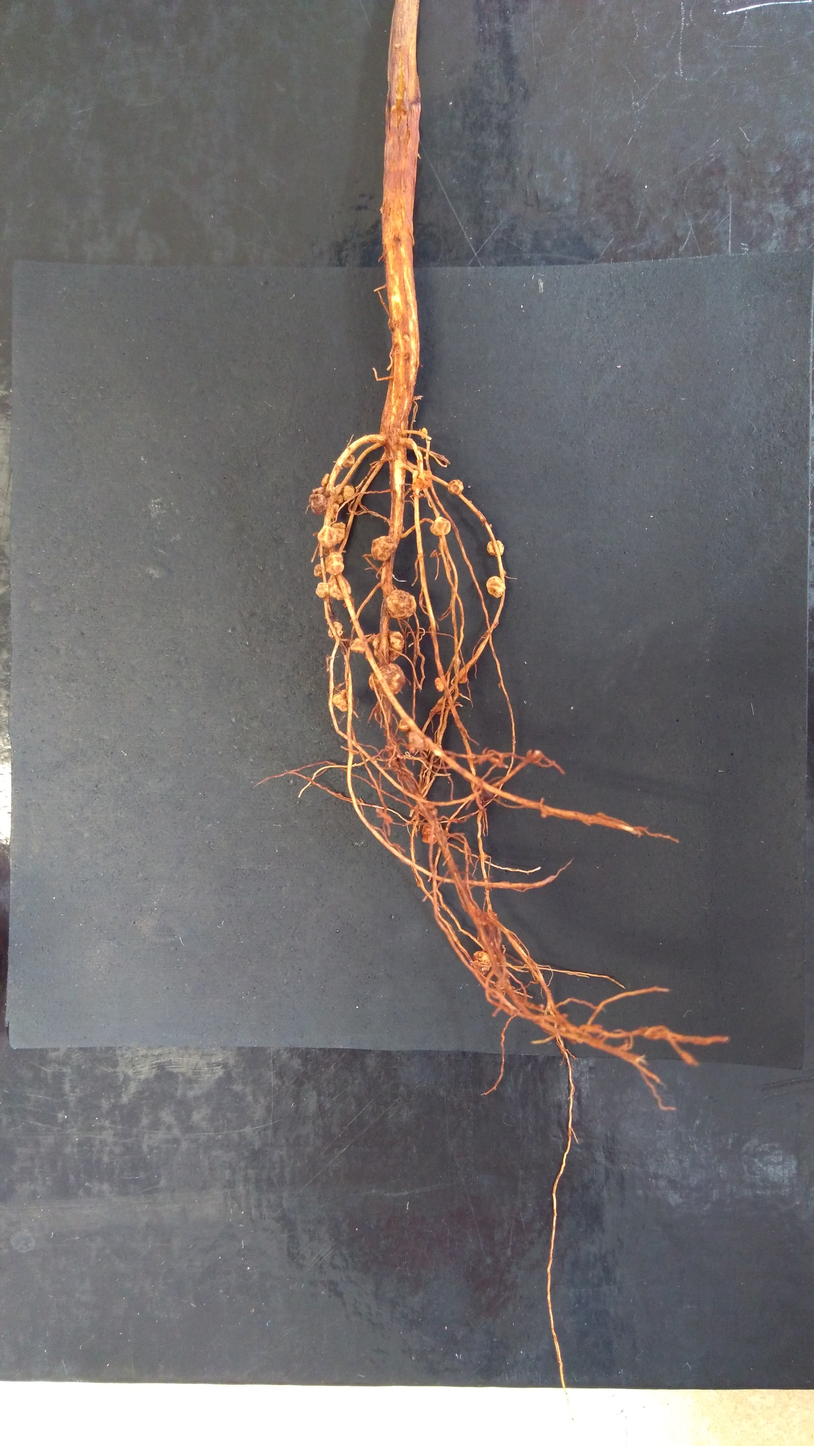nodule: (369, 663, 405, 696), (373, 630, 405, 662), (386, 590, 416, 619), (370, 535, 398, 561), (327, 573, 351, 600), (331, 689, 354, 713), (316, 525, 338, 548), (408, 731, 434, 750), (324, 551, 344, 575), (411, 470, 432, 492), (472, 951, 492, 974), (486, 576, 506, 598), (430, 516, 451, 536), (309, 493, 327, 514), (331, 522, 347, 544), (421, 822, 437, 844), (486, 539, 504, 557), (447, 479, 464, 496), (327, 621, 343, 638), (350, 638, 365, 654), (316, 582, 329, 599), (342, 453, 355, 468), (342, 485, 355, 500), (314, 563, 327, 578), (526, 749, 542, 761), (320, 473, 331, 487), (434, 677, 445, 691), (495, 979, 510, 989), (399, 718, 409, 732), (335, 484, 344, 494), (420, 428, 428, 439), (424, 803, 435, 811), (429, 807, 437, 818), (402, 351, 410, 362), (458, 674, 467, 683), (335, 494, 343, 504), (332, 504, 339, 514), (316, 486, 325, 493), (329, 486, 336, 495), (311, 487, 318, 494), (394, 43, 400, 48)
